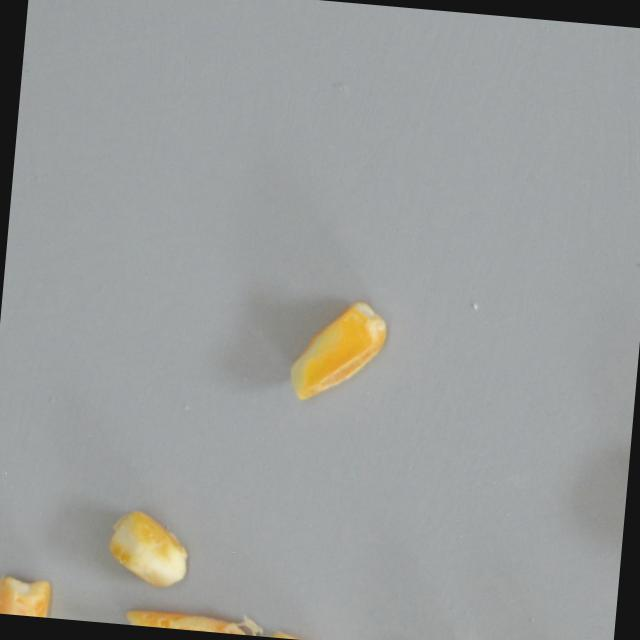pelicula: (271, 292, 393, 430), (102, 509, 192, 599), (115, 597, 255, 635), (0, 570, 67, 619), (233, 618, 360, 640)
